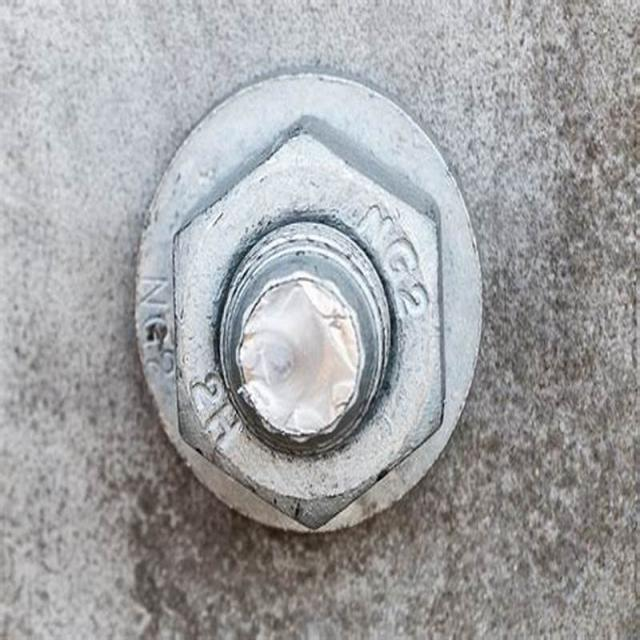bolt nut: (170, 110, 448, 533)
